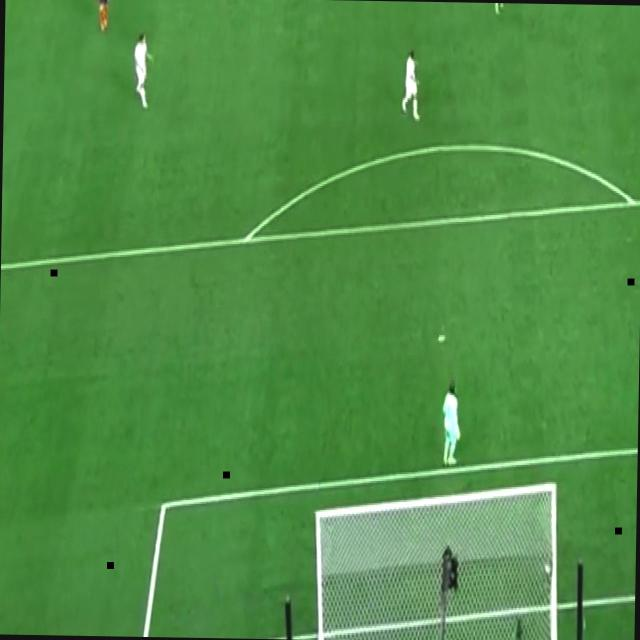player-white: (132, 27, 156, 114), (441, 378, 463, 470), (400, 44, 423, 124), (86, 0, 114, 35), (492, 3, 514, 20)
